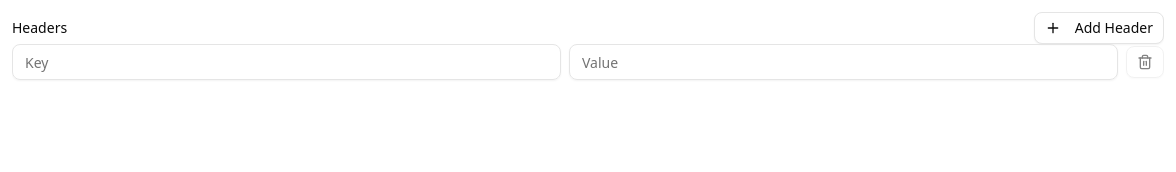
HeadersEditor › add a header row
Click the button "Add Header" at [1099, 28], box [1034, 12, 1164, 44]
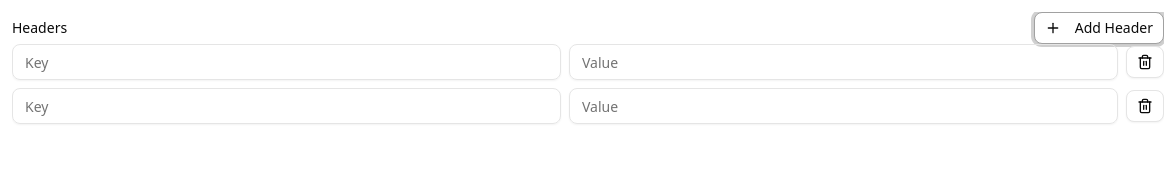
Now the 2nd button is enabled, box [1126, 46, 1164, 78]
Now the 3rd button is enabled, box [1126, 90, 1164, 122]
